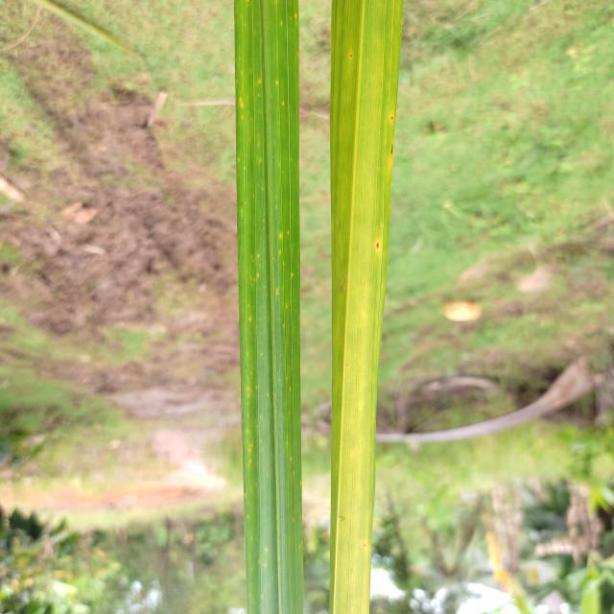nitrogen: (230, 0, 310, 614), (331, 0, 405, 614)
